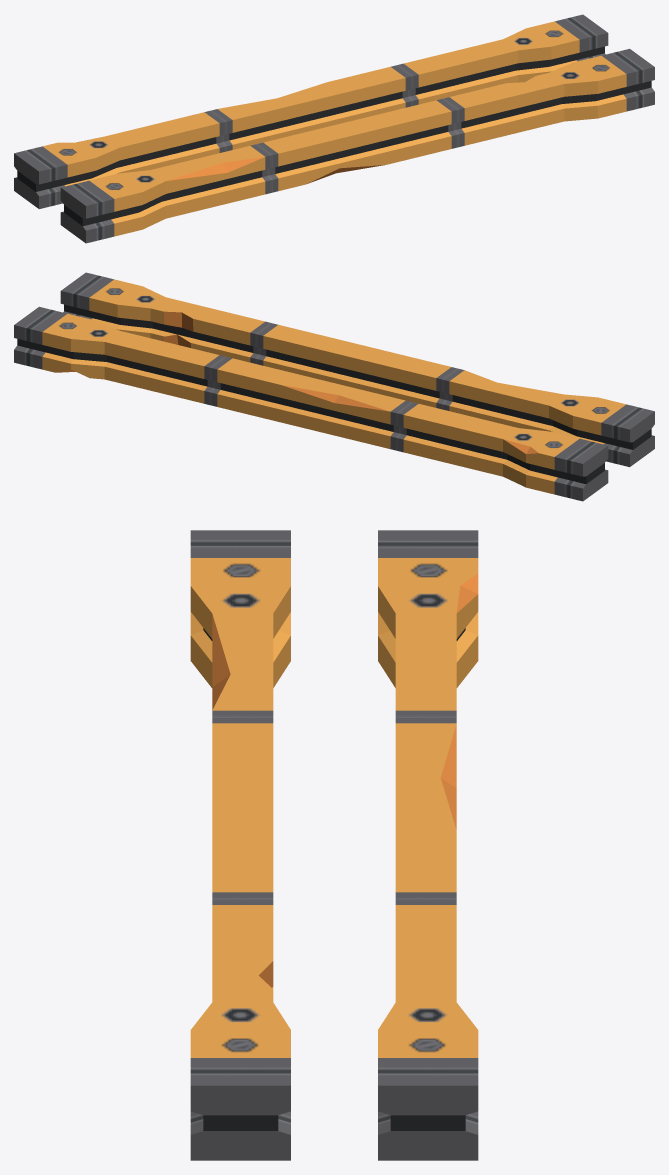
Rendered from SM_Bld_Train_Rail_Strut_01.fbx.
3 renders of one model, top to bottom at view 1: azimuth 30°, elevation 25°; view 2: azimuth 150°, elevation 25°; view 3: azimuth 270°, elevation 25°, orthographic. The views are drawn at different scales.
Visible parts, largest first — view 1: SM_Bld_Train_Rail_Strut_01; view 2: SM_Bld_Train_Rail_Strut_01; view 3: SM_Bld_Train_Rail_Strut_01.
Boxes of the visible parts, left/top/right/bottom form: SM_Bld_Train_Rail_Strut_01: left=14, top=14, right=654, bottom=243; SM_Bld_Train_Rail_Strut_01: left=14, top=272, right=654, bottom=501; SM_Bld_Train_Rail_Strut_01: left=190, top=530, right=478, bottom=1160.
Size of the model in its own units: 500 by 31.54 by 109.
